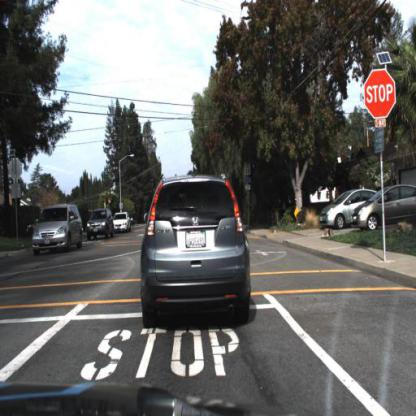car: (132, 167, 262, 346), (29, 197, 89, 263), (350, 182, 416, 234), (319, 185, 372, 232), (83, 201, 116, 246), (318, 194, 352, 232), (110, 210, 134, 237)
